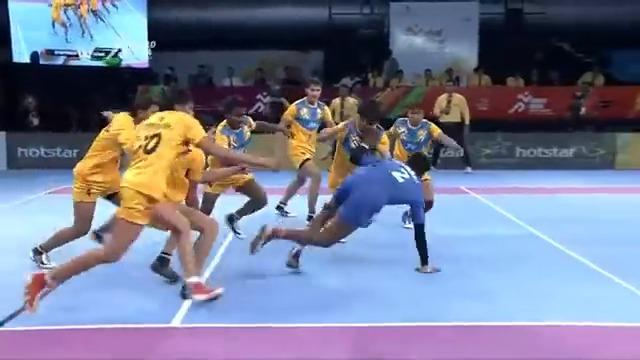Player: (22, 91, 279, 313), (150, 94, 285, 292), (29, 83, 163, 272), (197, 94, 284, 239), (273, 76, 339, 226), (386, 105, 465, 228), (326, 98, 390, 193), (430, 84, 473, 173)
Raider: (249, 135, 441, 274)
